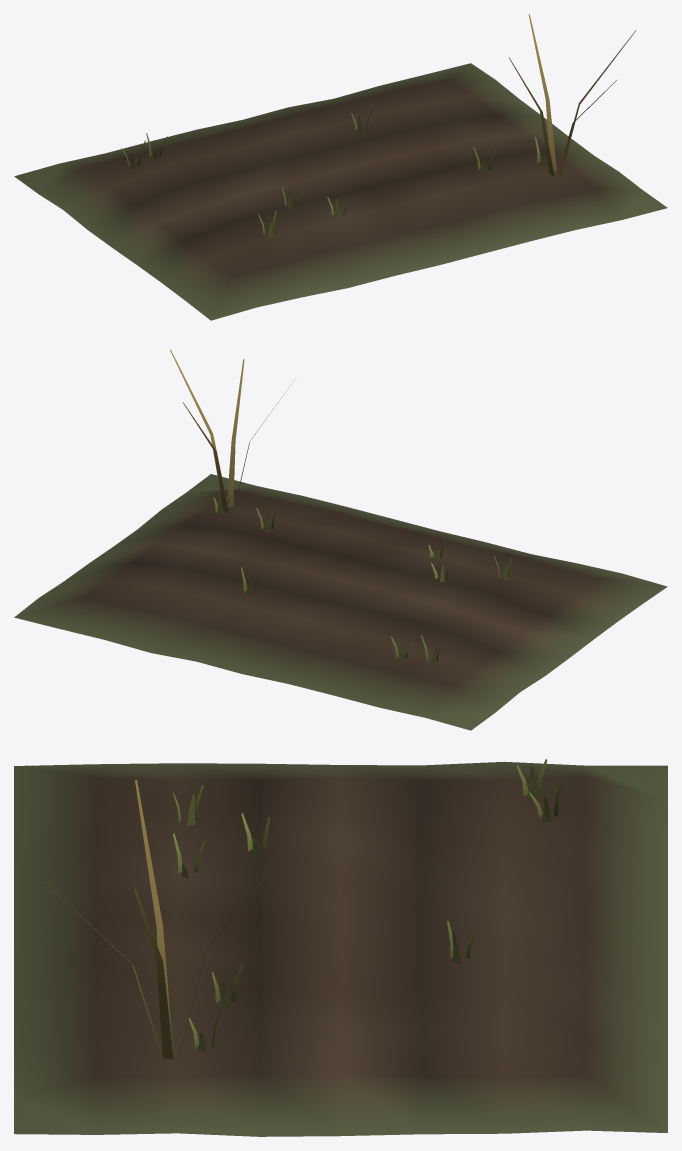
File: ph_env_flax_bed_empty.glb
The picture shows the model from 3 angles, top to bottom: view 1: azimuth 30°, elevation 25°; view 2: azimuth 150°, elevation 25°; view 3: azimuth 270°, elevation 25°; orthographic projection. The views are drawn at different scales.
Parts seen in each view (by area): view 1: ph_env_flax_bed_empty; view 2: ph_env_flax_bed_empty; view 3: ph_env_flax_bed_empty.
Part boxes in pixels (x1,y1,x2,y2): ph_env_flax_bed_empty: [14, 14, 667, 320]; ph_env_flax_bed_empty: [14, 349, 667, 730]; ph_env_flax_bed_empty: [14, 759, 667, 1136].
Size of the model in its own units: 1.56 by 0.5014 by 1.15.
